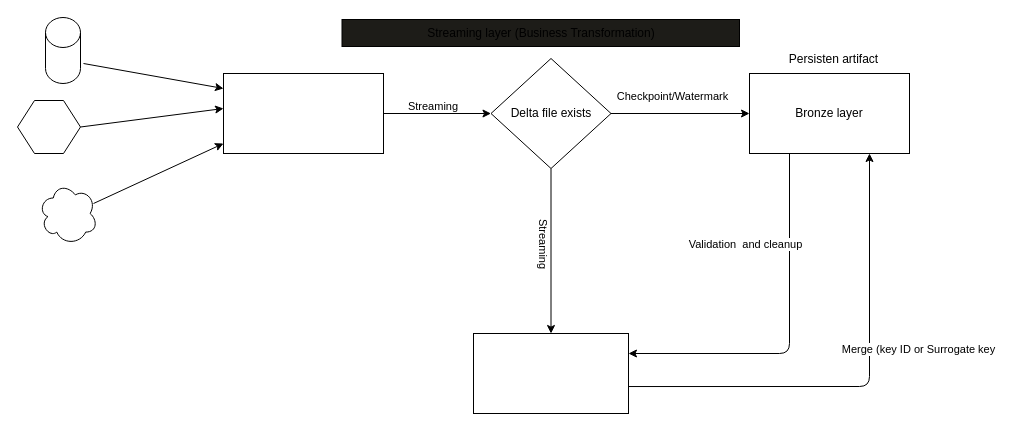
This 1012x431 diagram has some shape labels left out. Each missing label, with the centre of its shape:
"Landing Layer/Zone" goes at point 303,113.
"temp in Memory Staging layer (Empheral layer)" goes at point 550,373.
